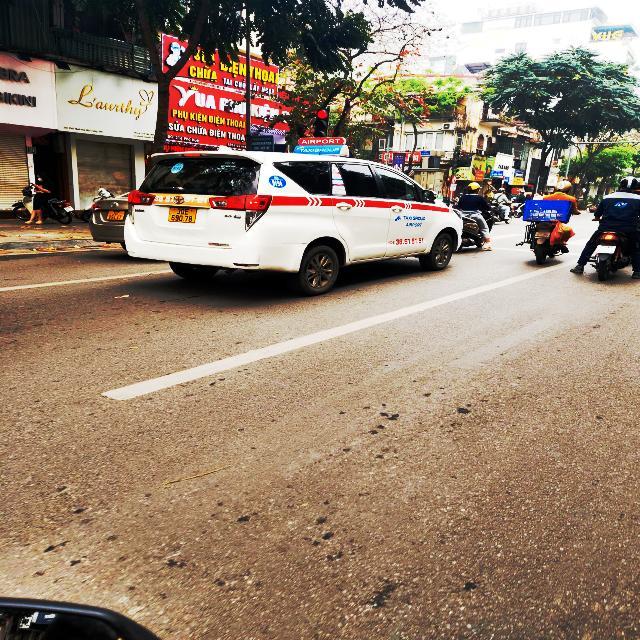license_plate: (169, 205, 200, 224)
